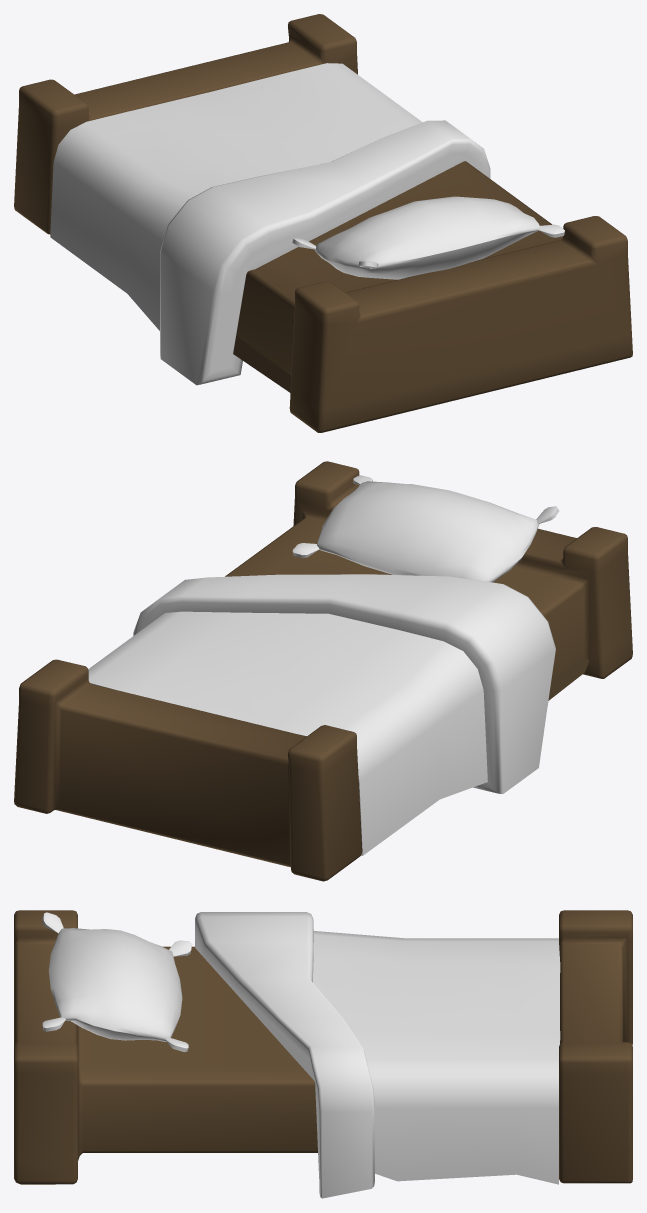
The model's file is Bed.fbx.
The picture shows the model from 3 angles, top to bottom: view 1: azimuth 30°, elevation 25°; view 2: azimuth 150°, elevation 25°; view 3: azimuth 270°, elevation 25°; orthographic projection.
Parts seen in each view (by area): view 1: Bed, BedCover; view 2: Bed, BedCover; view 3: Bed, BedCover.
Boxes of the visible parts, x1,y1,x2,y2 form: Bed: [14, 14, 632, 432]; BedCover: [50, 63, 490, 385]; Bed: [14, 461, 632, 881]; BedCover: [88, 574, 555, 855]; Bed: [14, 910, 632, 1184]; BedCover: [195, 912, 560, 1198].
Size of the model in its own units: 1.5 by 0.7788 by 2.36.
